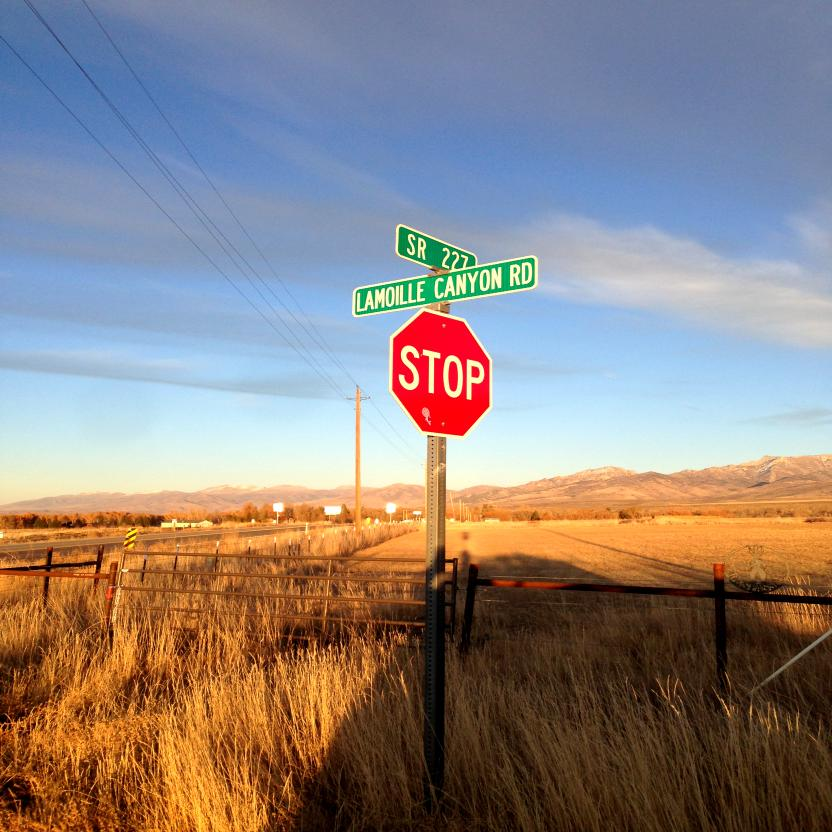Pole: (419, 438, 448, 813)
Sign: (385, 313, 493, 438)
